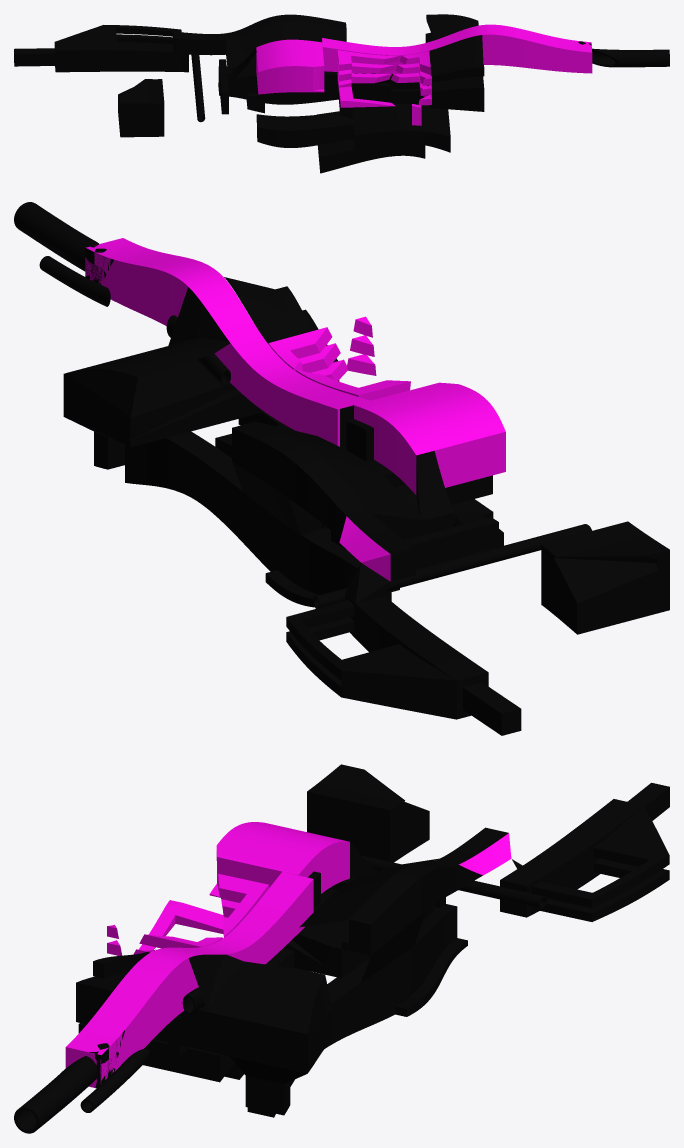
Rendered from 2 - compressed spaces.glb.
3 renders of one model, top to bottom at view 1: azimuth 30°, elevation 25°; view 2: azimuth 150°, elevation 25°; view 3: azimuth 270°, elevation 25°, orthographic. The views are drawn at different scales.
Size of the model in its own units: 115 by 24.7 by 84.74.
